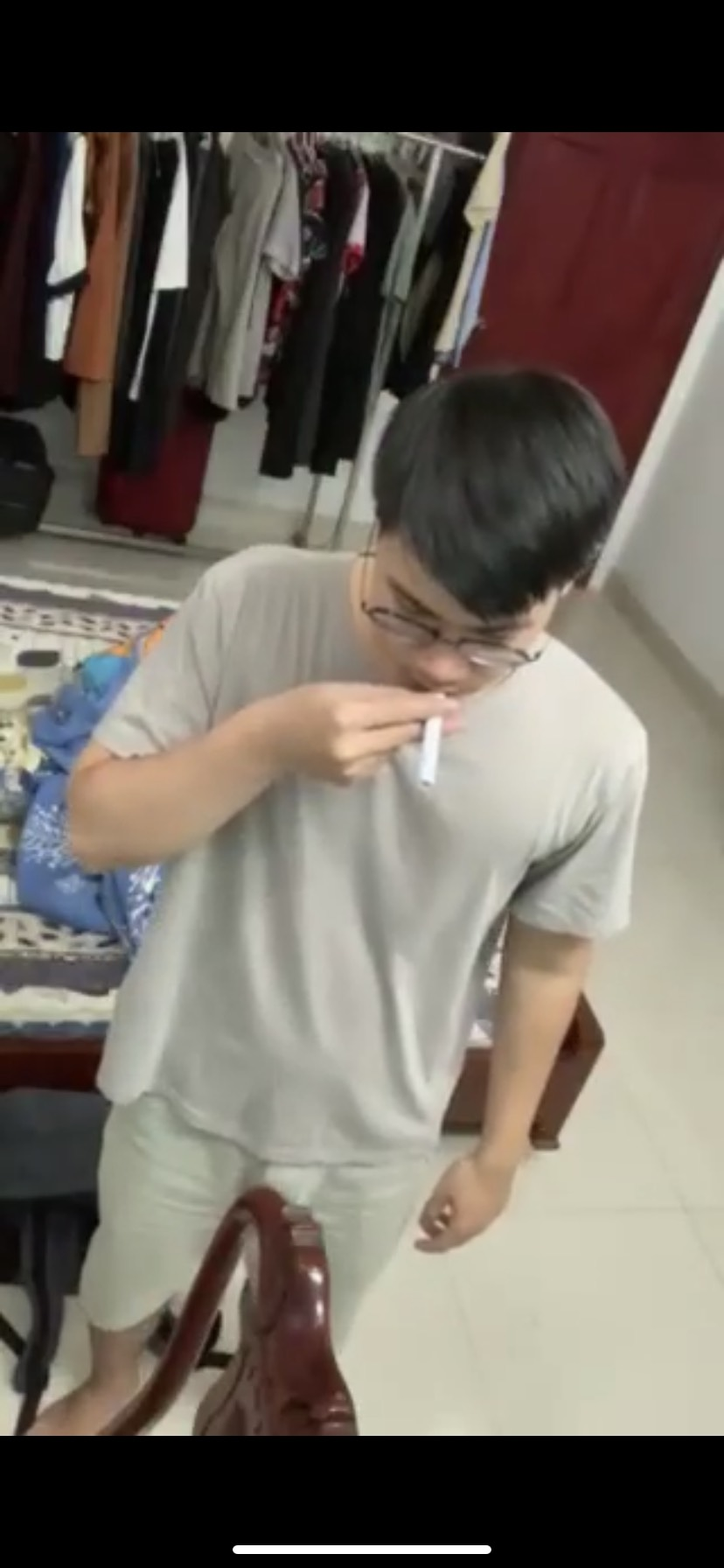cigarette: (404, 682, 456, 785)
person: (102, 349, 657, 1322)
